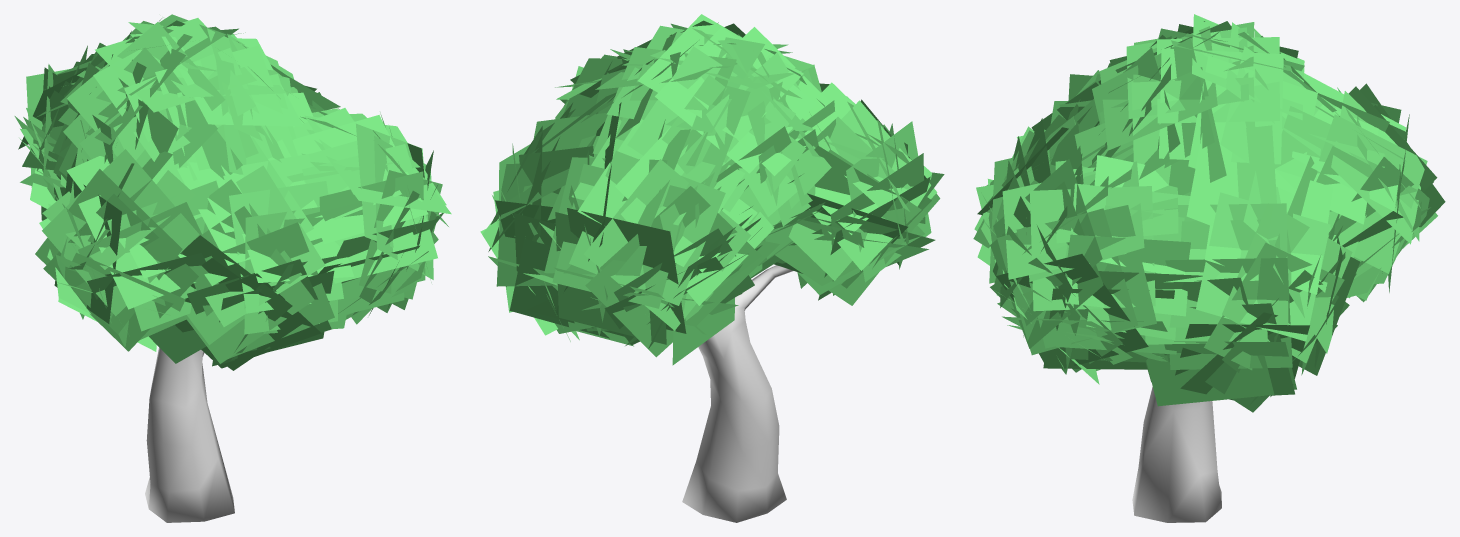
Rendered from Tree4.fbx.
3 views of the same model, side by side, from view 1: azimuth 30°, elevation 25°; view 2: azimuth 150°, elevation 25°; view 3: azimuth 270°, elevation 25° (orthographic). The views are drawn at different scales.
Parts seen in each view (by area): view 1: Plane; view 2: Plane; view 3: Plane.
Part boxes in pixels (x1,y1,x2,y2): Plane: [14, 14, 451, 522]; Plane: [480, 14, 944, 522]; Plane: [973, 14, 1445, 522].
Bounding box in the file's own units: 19.39 × 21.71 × 18.2.
